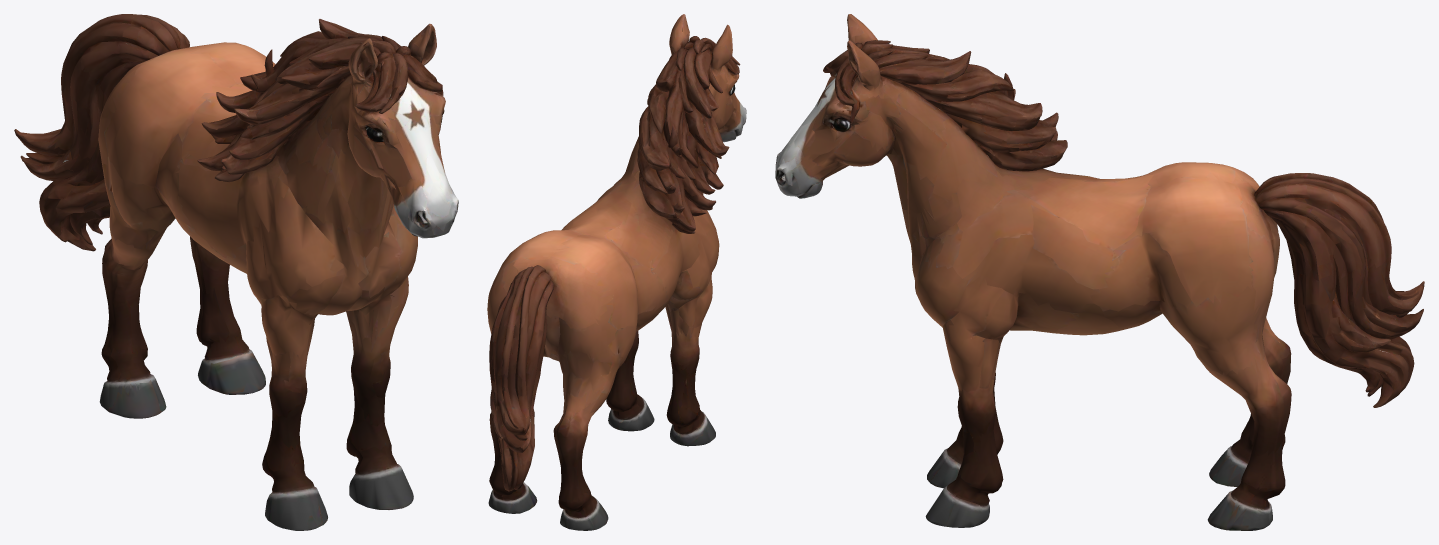
Rendered from upm_muprjqoh1q1.glb.
The picture shows the model from 3 angles, left to right: view 1: azimuth 30°, elevation 25°; view 2: azimuth 150°, elevation 25°; view 3: azimuth 270°, elevation 25°; orthographic projection. The views are drawn at different scales.
Size of the model in its own units: 0.5789 by 1.52 by 1.9.
Materials: 1 (1 with a texture image).
